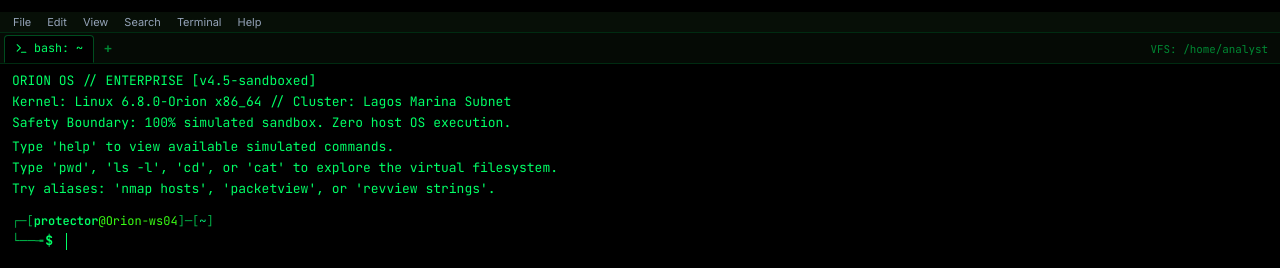
TerminalApp Component › clears screen output when clear command is executed
Check: the text "ORION OS // ENTERPRISE [v4.5-sandboxed]" is shown, box [12,72,316,88]
Type "clear" into the field with test id "terminal-command-input".
click(667, 241); type("clear")  # box [66,231,1268,252]
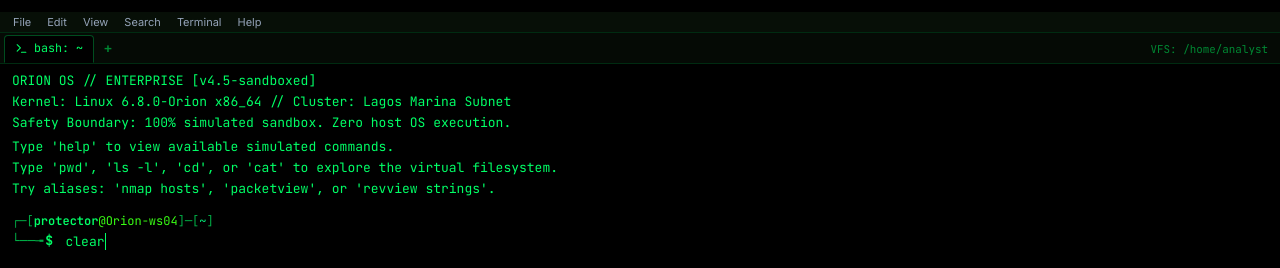
Press Enter in the field with test id "terminal-command-input", box [66,231,1268,252]
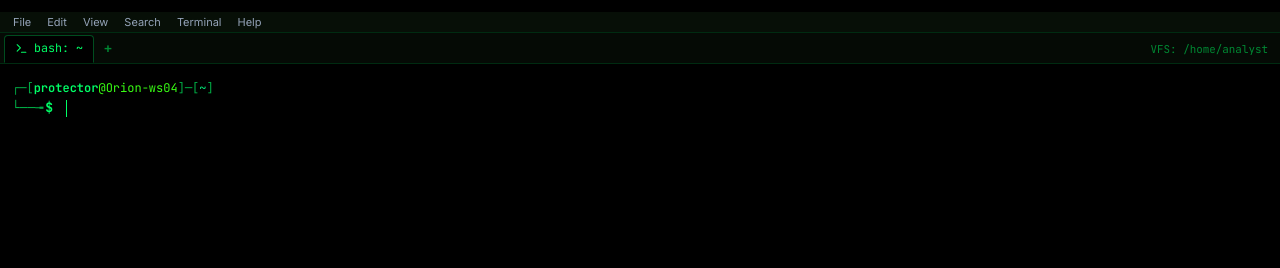
Check: the text "ORION OS" is gone
